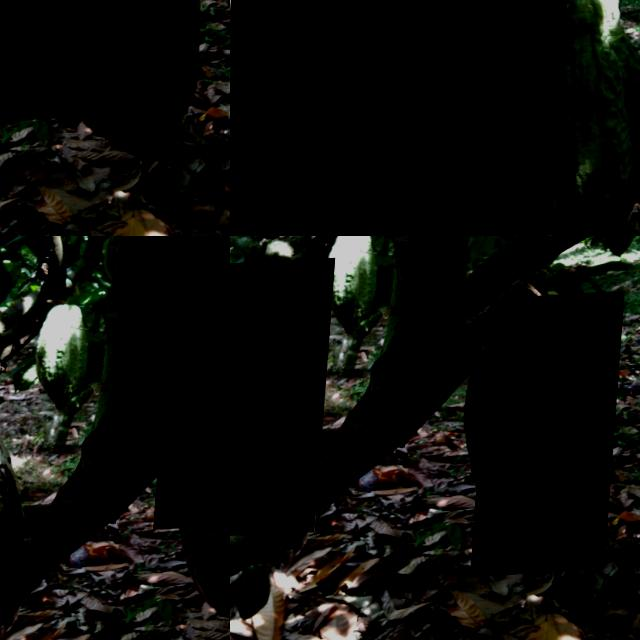Fitoftora: (478, 297, 628, 581)
Monilia: (230, 260, 338, 541), (0, 0, 176, 125)
Sana: (230, 0, 579, 236), (159, 236, 230, 533), (150, 0, 205, 120), (324, 236, 379, 341), (240, 568, 281, 625)
